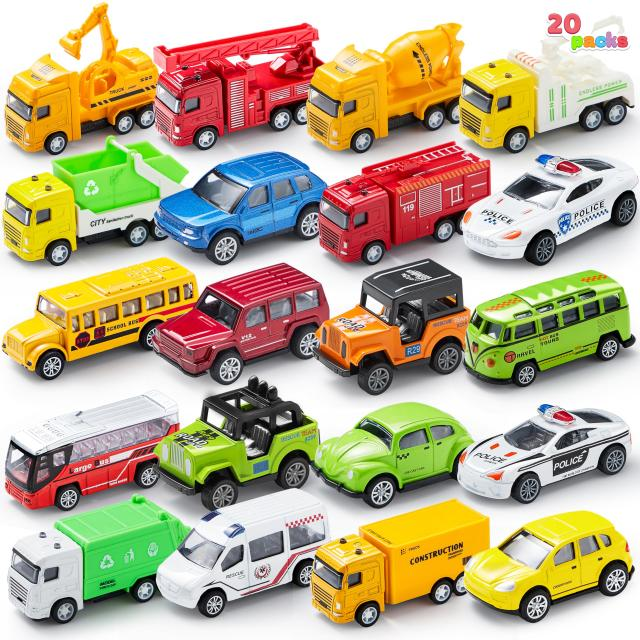vehicle: (295, 164, 483, 258), (0, 519, 165, 626), (458, 53, 640, 150), (184, 249, 314, 382), (335, 1, 454, 140), (0, 164, 186, 252), (174, 505, 323, 613), (10, 22, 152, 134), (336, 510, 471, 624), (493, 522, 640, 624), (167, 16, 301, 126), (10, 391, 163, 487), (0, 280, 159, 372), (334, 277, 468, 385), (476, 418, 640, 506), (481, 163, 640, 253), (182, 163, 332, 249), (323, 409, 459, 498), (184, 399, 318, 487)
